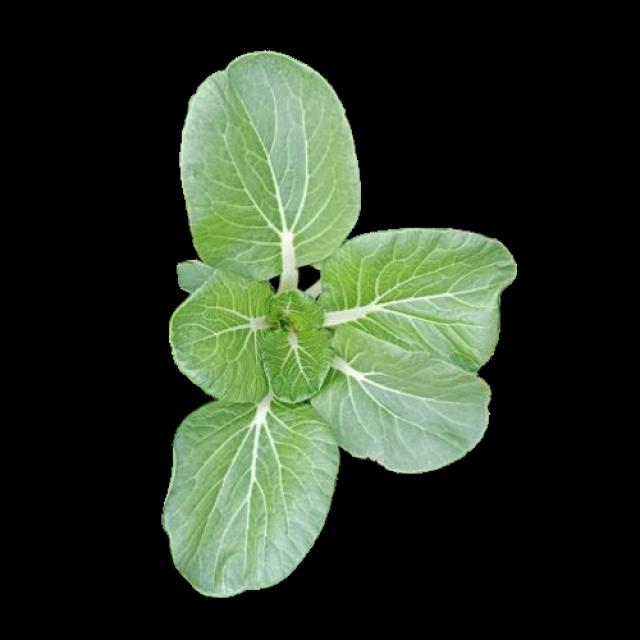healthy: (159, 50, 516, 589)
not-mature: (162, 53, 518, 592)
